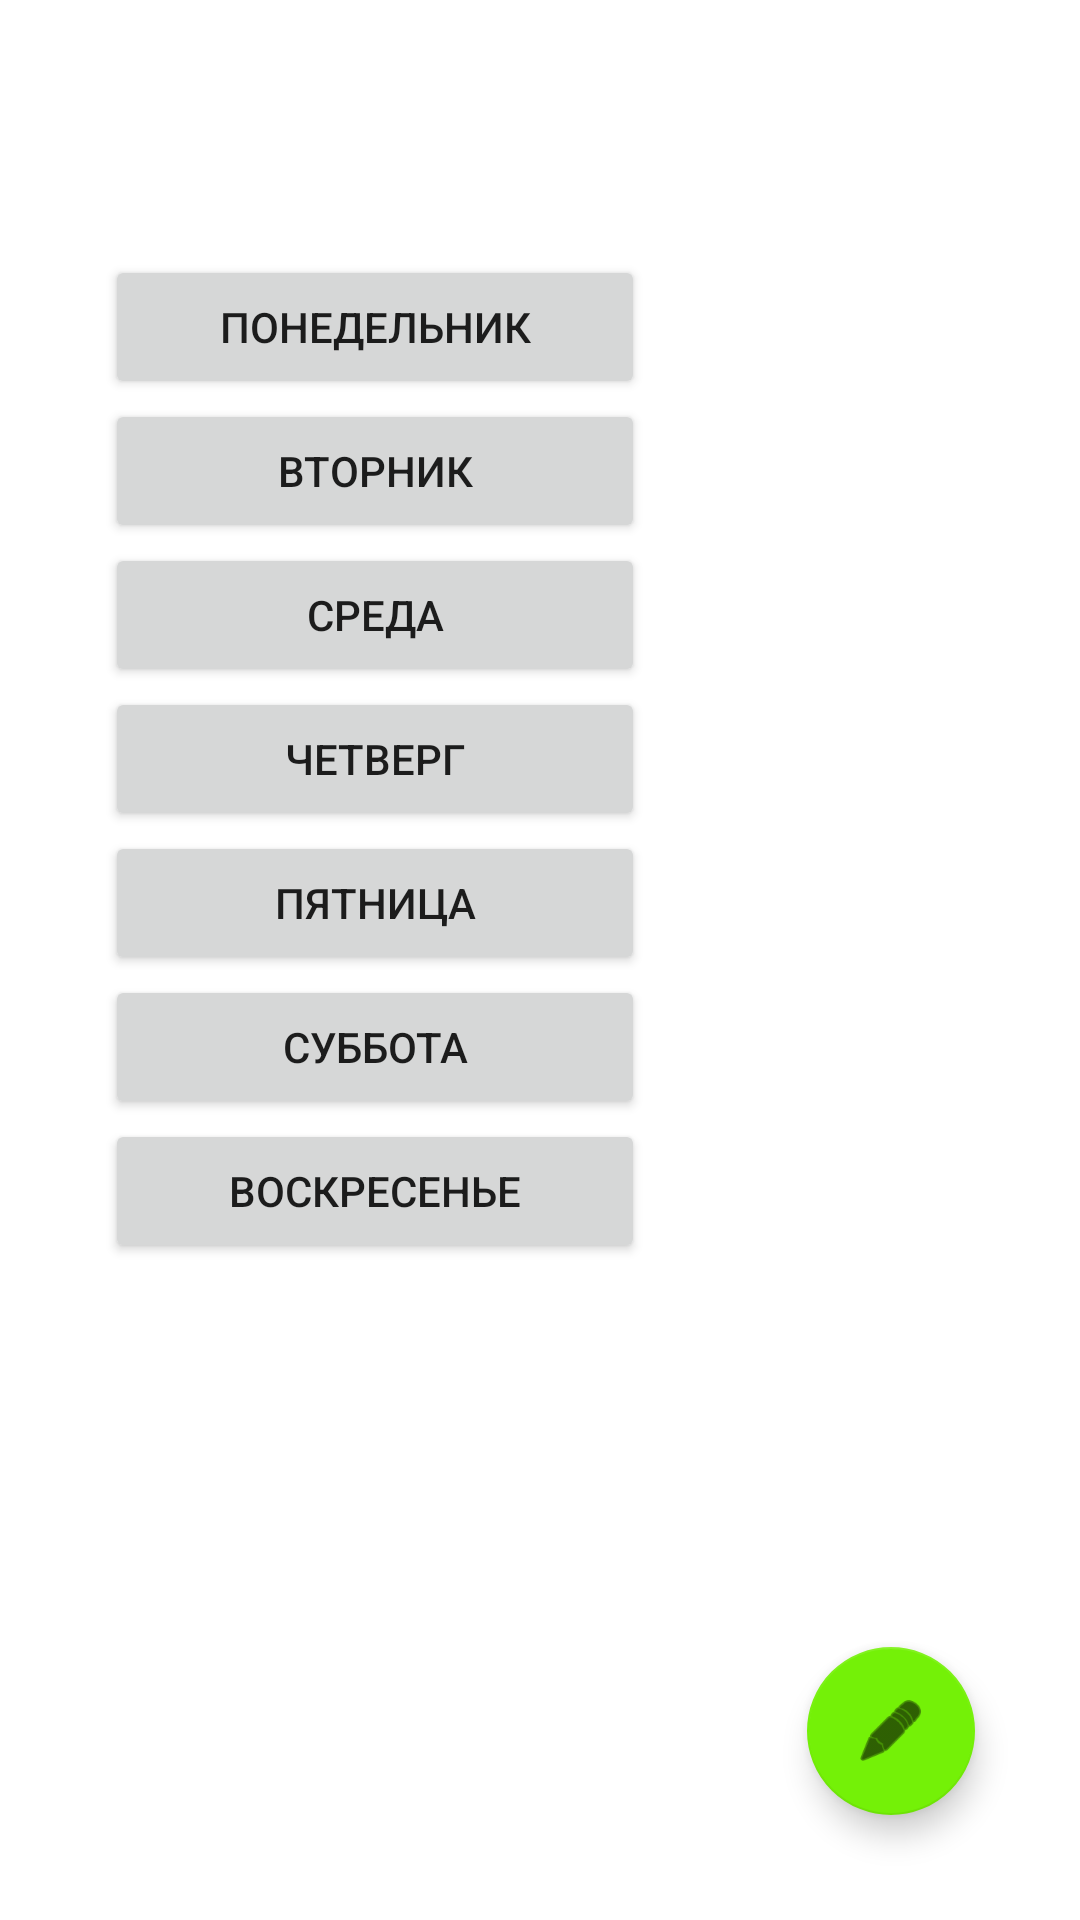

Point at icon controls on the screen. Image size 1080 x 1920, points as point (x, y).
edit: point (891, 1731)
